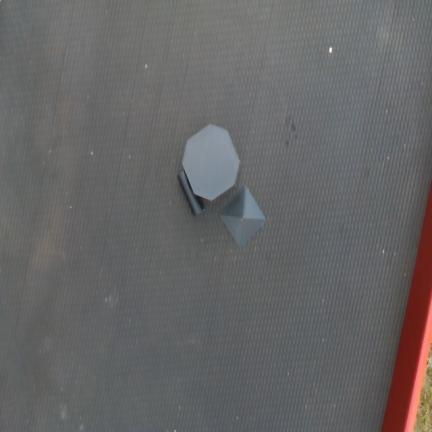Cilindro: (177, 169, 202, 216)
Piramide: (219, 185, 267, 247)
Prisma_hexagonal: (182, 124, 241, 201)
